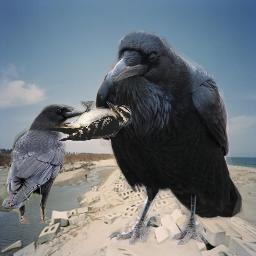Crow: (93, 29, 244, 245), (0, 104, 85, 224)
Woodpecker: (43, 101, 136, 145)
